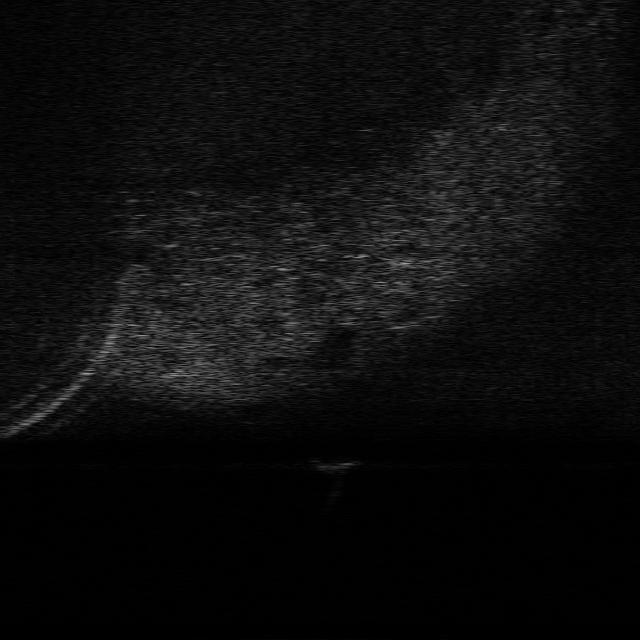cube: (308, 452, 362, 476)
